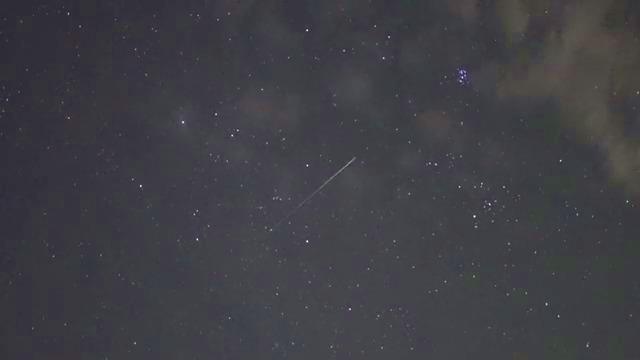meteorite: (284, 153, 361, 213)
